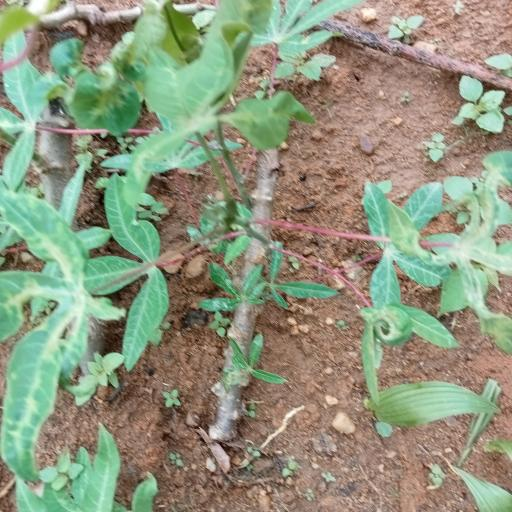Cassava_Mosaic: (0, 178, 95, 491), (114, 19, 318, 164), (58, 184, 171, 363), (386, 183, 512, 341)
